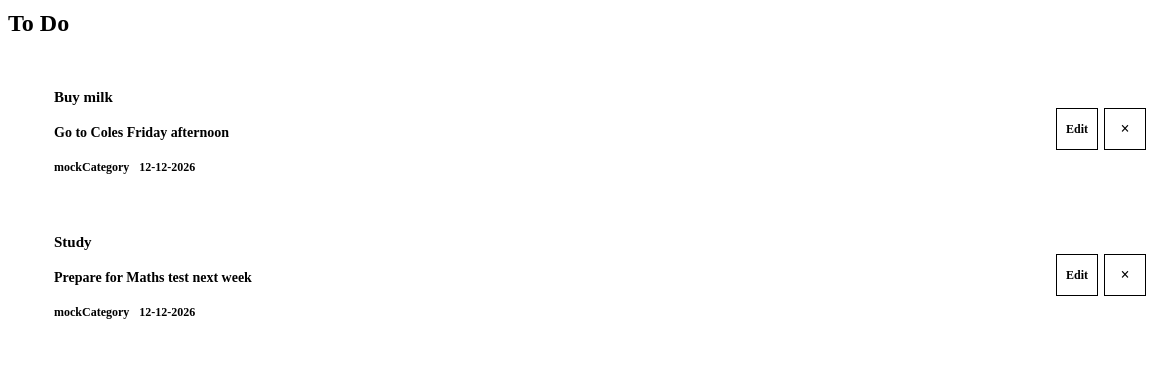
Scenario: TodoList › Should show a todoForm instead of TodoCard when editing
Click the button "Edit" in the row of "Go to Coles Friday afternoon": (1077, 129) [1056,108,1098,150]
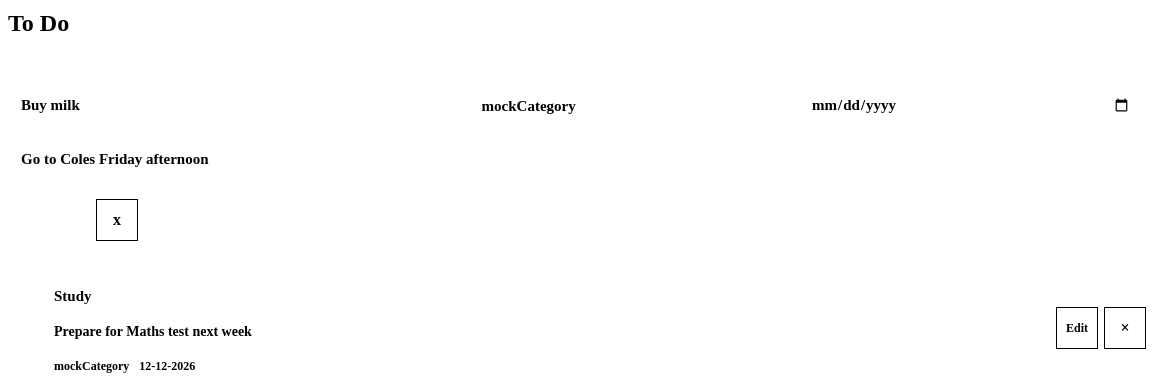
Expected: the 1st field showing "Buy milk" is shown, [8,83,461,129]
